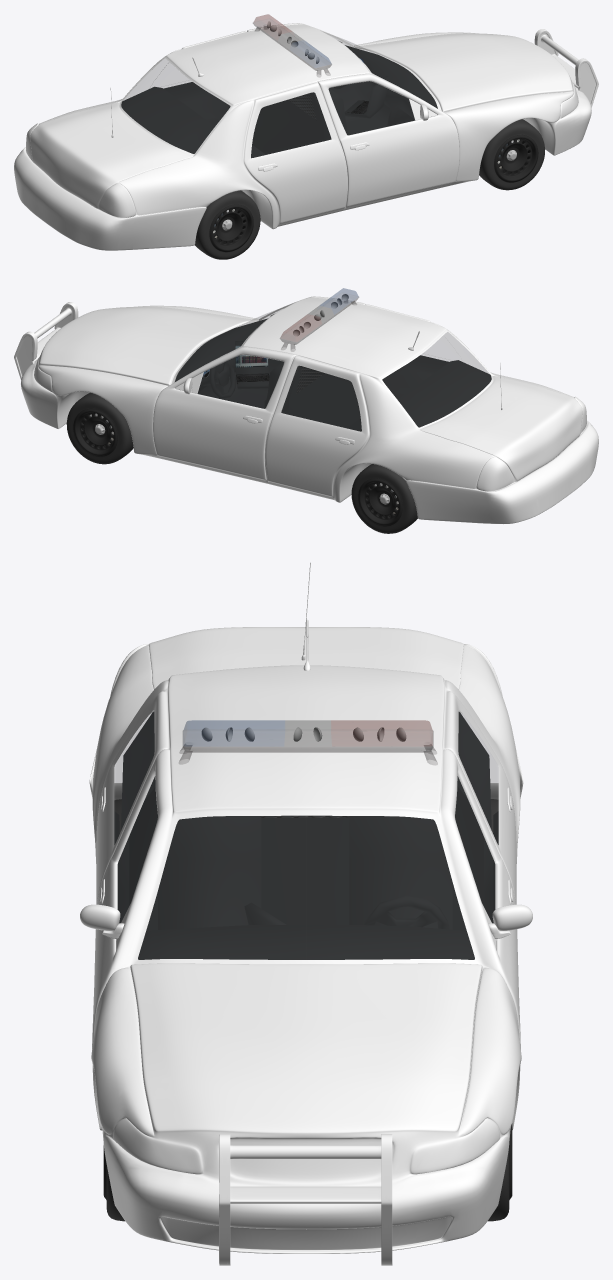
File: copvic.glb
3 renders of one model, top to bottom at view 1: azimuth 30°, elevation 25°; view 2: azimuth 150°, elevation 25°; view 3: azimuth 270°, elevation 25°, orthographic. The views are drawn at different scales.
Visible parts, largest first — view 1: body, spin_FR, spin_RR; view 2: body, spin_FL, spin_RL; view 3: body.
Part boxes in pixels (<box>): body: <box>14,14,598,250</box>; spin_FR: <box>479,119,545,190</box>; spin_RR: <box>195,190,260,259</box>; body: <box>14,288,598,524</box>; spin_FL: <box>66,392,133,464</box>; spin_RL: <box>351,464,417,533</box>; body: <box>80,562,532,1265</box>.
Size of the model in its own units: 5.2 by 1.54 by 1.92.
Materials: 7 (4 with a texture image).
